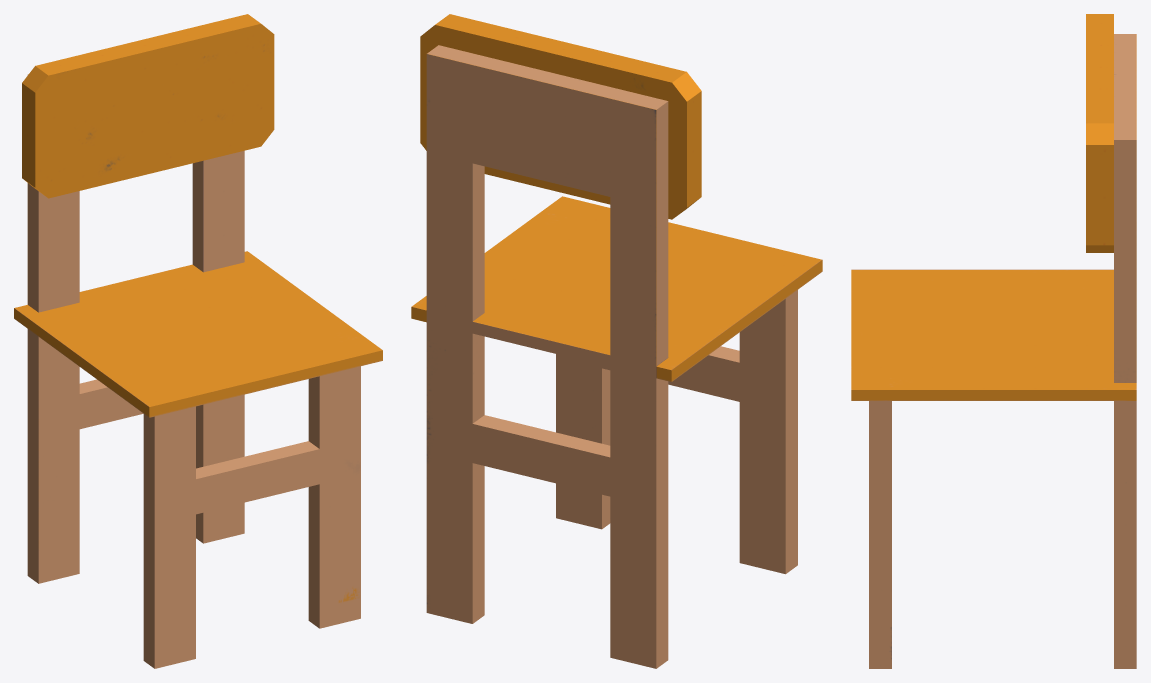
The model's file is ENV_Chair_Style2_orange_v000.fbx.
3 views of the same model, side by side, from view 1: azimuth 30°, elevation 25°; view 2: azimuth 150°, elevation 25°; view 3: azimuth 270°, elevation 25° (orthographic). The views are drawn at different scales.
Parts seen in each view (by area): view 1: pCube2; view 2: pCube2; view 3: pCube2.
Boxes of the visible parts, x1,y1,x2,y2 form: pCube2: (14,14,382,668); pCube2: (411,14,822,668); pCube2: (851,14,1136,668).
Bounding box in the file's own units: 0.5515 × 1.14 × 0.5407.
